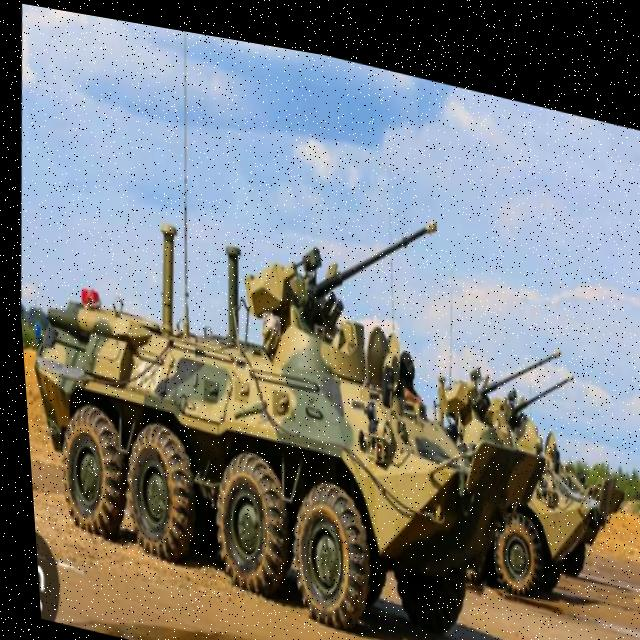MIL_APC: (10, 190, 521, 640)
